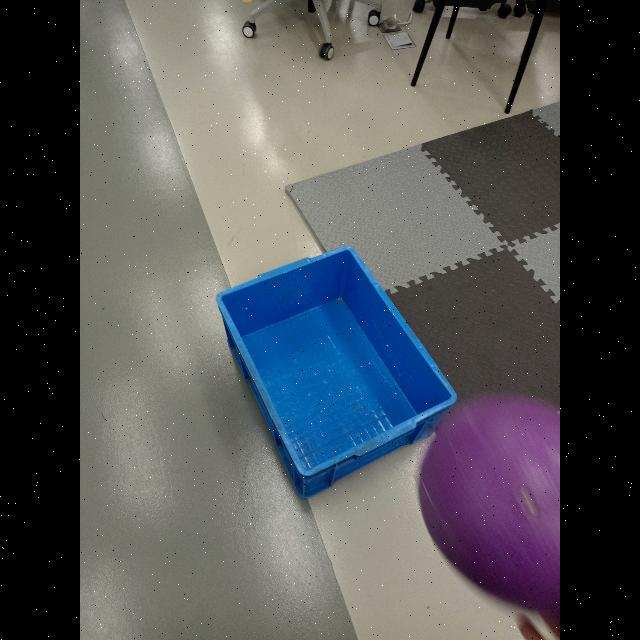P: (416, 391, 560, 611)
